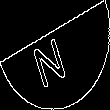N_NW: (34, 24, 76, 86)
